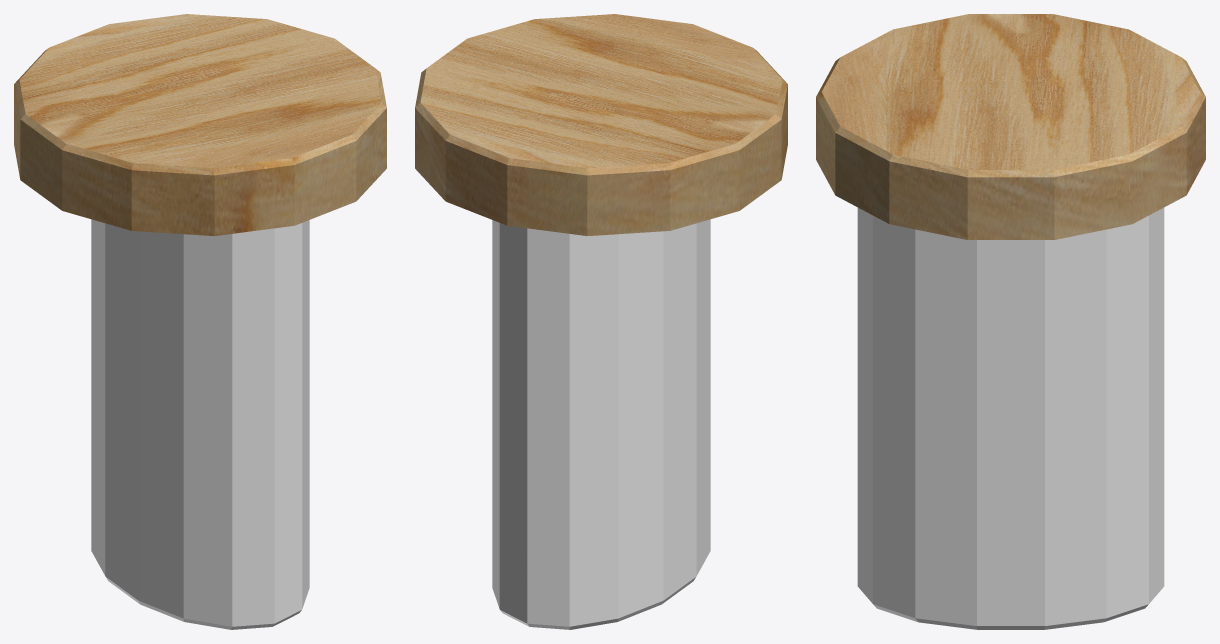
The model's file is movable_restzone_pillar_table.gltf.
3 views of the same model, side by side, from view 1: azimuth 30°, elevation 25°; view 2: azimuth 150°, elevation 25°; view 3: azimuth 270°, elevation 25° (orthographic). The views are drawn at different scales.
Parts seen in each view (by area): view 1: RestzonePillarTable; view 2: RestzonePillarTable; view 3: RestzonePillarTable.
Part boxes in pixels (<box>): RestzonePillarTable: <box>14,14,386,629</box>; RestzonePillarTable: <box>415,14,787,629</box>; RestzonePillarTable: <box>816,14,1205,629</box>.
Size of the model in its own units: 0.3449 by 0.5 by 0.3538.
2 materials, 1 textured.
